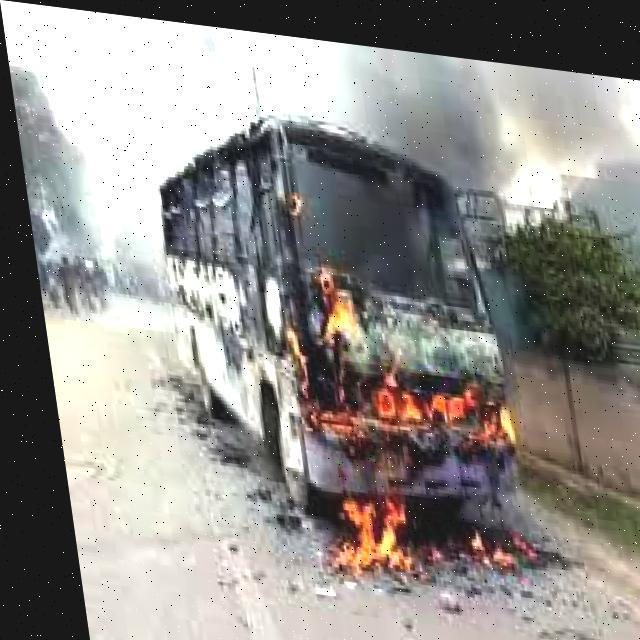Fire: (258, 284, 538, 540)
